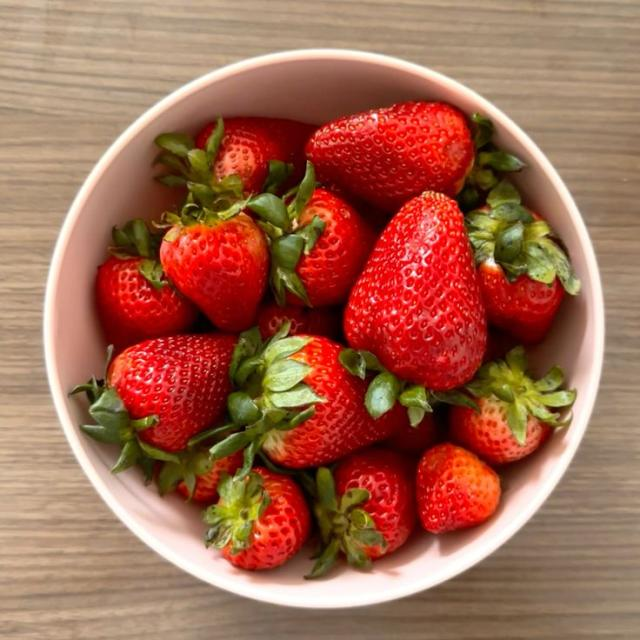strawberry: (344, 193, 486, 413), (211, 326, 406, 472), (156, 120, 268, 331), (73, 334, 237, 472), (307, 101, 473, 211), (467, 181, 579, 343), (248, 163, 374, 306), (449, 347, 575, 464), (308, 447, 417, 577), (95, 220, 198, 352), (160, 206, 268, 331), (155, 118, 314, 197), (203, 467, 310, 570), (296, 188, 375, 306), (215, 117, 316, 193), (416, 443, 500, 533), (457, 114, 525, 213), (157, 447, 242, 503), (257, 301, 341, 339), (382, 414, 439, 456), (484, 327, 517, 362)
